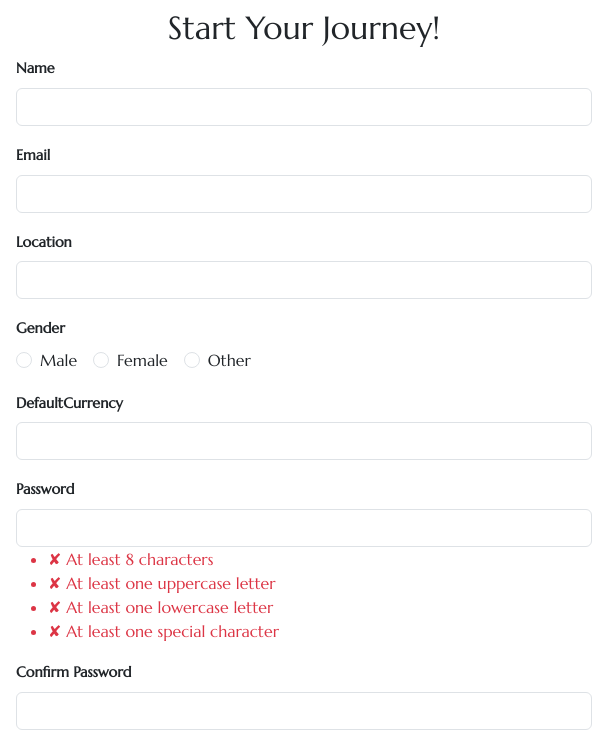
SignUp Component › handles input changes correctly
The image size is (609, 746).
Test email input
In the field labelled "Email": (304, 194) [16,175,592,213], type "test@example.com"
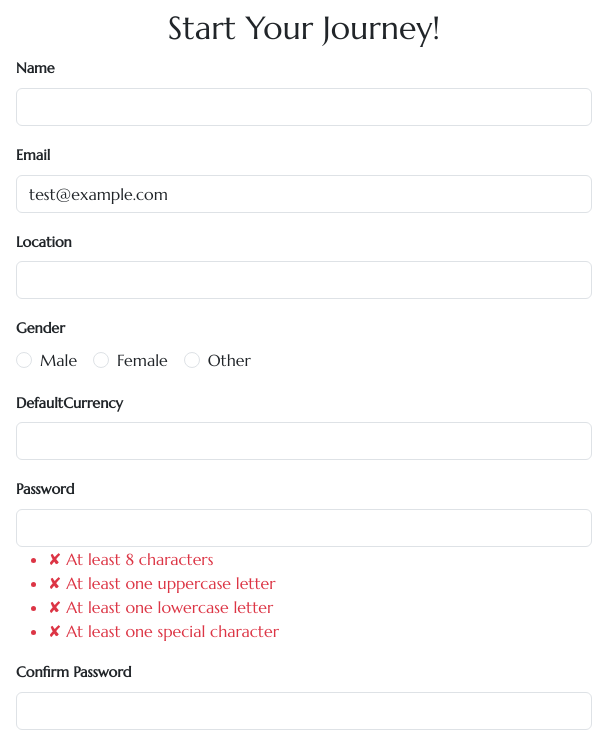
Test password input with password strength checks
In the password field labelled "Password": (304, 528) [16,509,592,547], type "StrongPass123!"
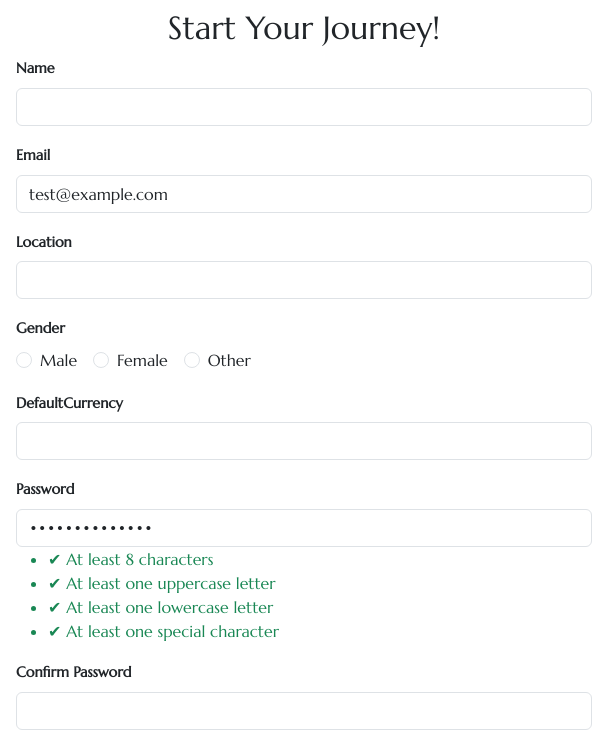
Result: the list item "✔ At least 8 characters" is shown at [48,549,213,569]
Result: the list item "✔ At least one uppercase letter" is shown at [48,573,276,593]
Result: the list item "✔ At least one lowercase letter" is shown at [48,597,273,617]
